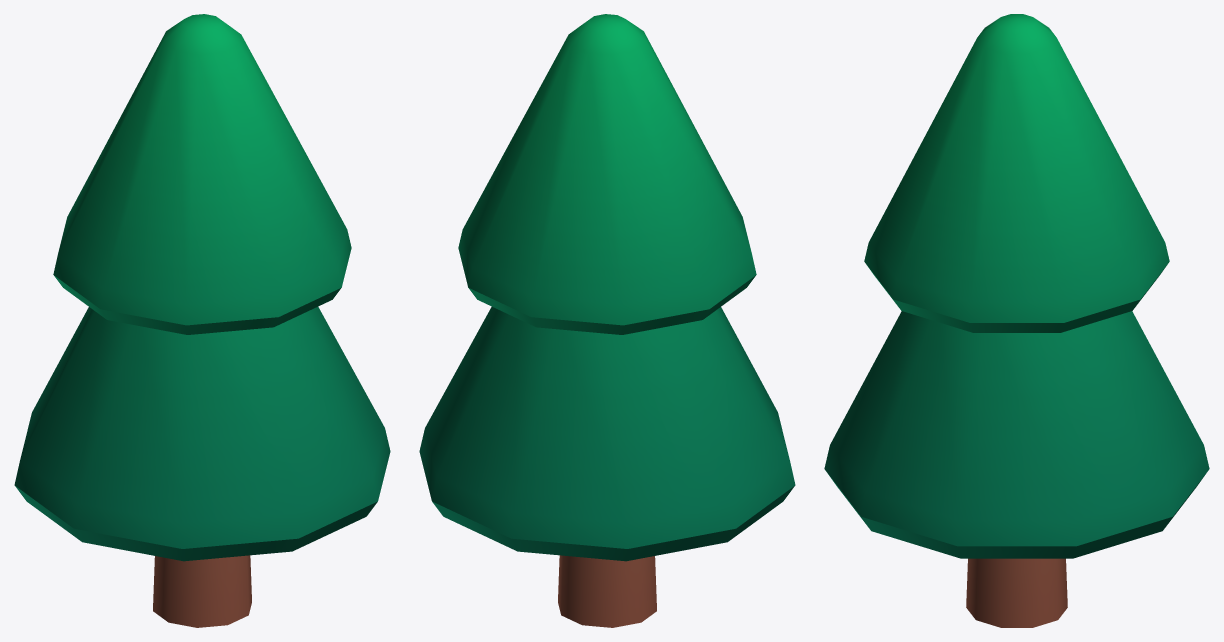
File: tree_single_B.glb
The picture shows the model from 3 angles, left to right: view 1: azimuth 30°, elevation 25°; view 2: azimuth 150°, elevation 25°; view 3: azimuth 270°, elevation 25°; orthographic projection.
Parts seen in each view (by area): view 1: tree_single_B; view 2: tree_single_B; view 3: tree_single_B.
Boxes of the visible parts, box(x1,y1,x2,y2) form: tree_single_B: box(14, 14, 390, 627); tree_single_B: box(419, 14, 795, 627); tree_single_B: box(824, 14, 1209, 627).
Bounding box in the file's own units: 0.6849 × 1.21 × 0.7201.
Materials: 1 (1 with a texture image).
